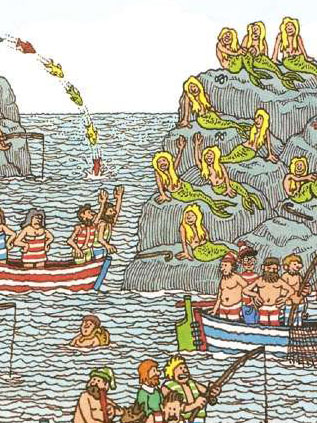waldo: (237, 241, 257, 272)
